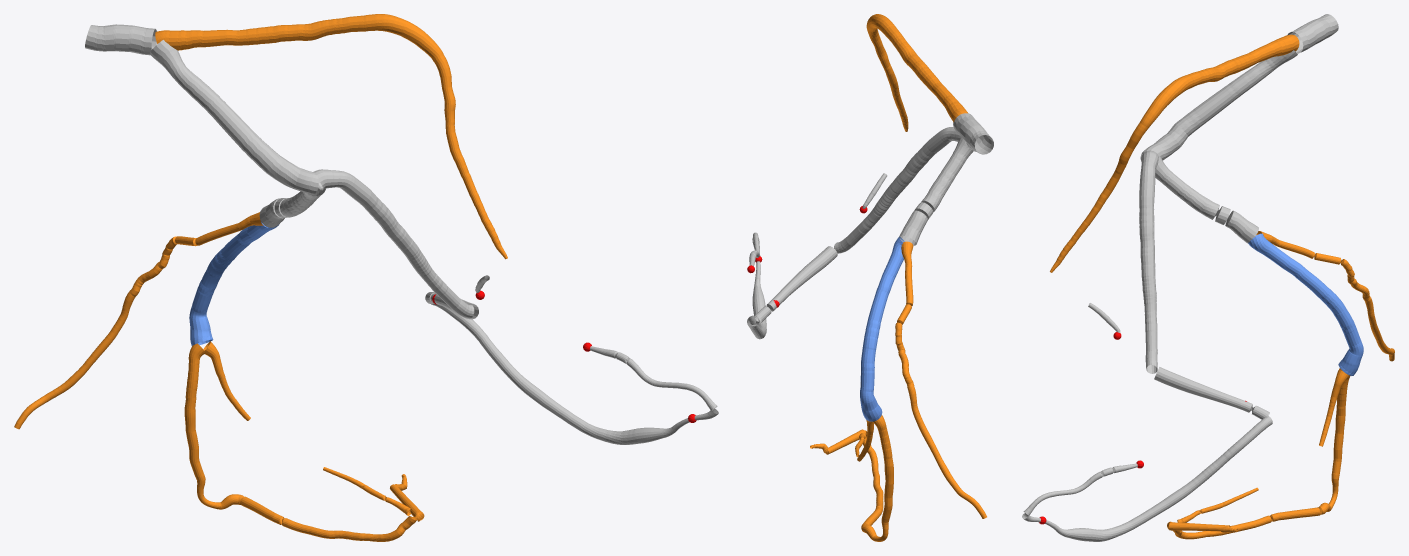
The model's file is hybrid_qca_radius_tree.obj.
The picture shows the model from 3 angles, left to right: view 1: azimuth 30°, elevation 25°; view 2: azimuth 150°, elevation 25°; view 3: azimuth 270°, elevation 25°; orthographic projection. The views are drawn at different scales.
Visible parts, largest first — view 1: branch_00_single_view_preserved, branch_06_reliable, branch_02_single_view_preserved, branch_03_reliable, branch_04_reliable, branch_01_single_view_preserved, branch_05_usable, branch_12_reliable, branch_08_reliable, branch_07_reliable; view 2: branch_00_single_view_preserved, branch_05_usable, branch_03_reliable, branch_01_single_view_preserved, branch_02_single_view_preserved, branch_08_reliable, branch_11_reliable, branch_12_reliable, branch_04_reliable, branch_14_single_view_preserved; view 3: branch_00_single_view_preserved, branch_03_reliable, branch_06_reliable, branch_04_reliable, branch_05_usable, branch_02_single_view_preserved, branch_08_reliable, branch_01_single_view_preserved, branch_11_reliable, branch_12_reliable, branch_07_reliable, branch_09_single_view_preserved (+1 smaller).
Part boxes in pixels (<box>): branch_00_single_view_preserved: <box>155,14,507,259</box>; branch_06_reliable: <box>150,40,318,194</box>; branch_02_single_view_preserved: <box>184,343,416,541</box>; branch_03_reliable: <box>313,169,474,318</box>; branch_04_reliable: <box>431,303,718,444</box>; branch_01_single_view_preserved: <box>14,212,263,429</box>; branch_05_usable: <box>189,220,279,345</box>; branch_12_reliable: <box>85,24,156,55</box>; branch_08_reliable: <box>259,188,325,227</box>; branch_07_reliable: <box>590,346,717,410</box>; branch_00_single_view_preserved: <box>866,14,967,131</box>; branch_05_usable: <box>860,236,904,421</box>; branch_03_reliable: <box>834,127,961,253</box>; branch_01_single_view_preserved: <box>895,241,986,518</box>; branch_02_single_view_preserved: <box>861,415,893,541</box>; branch_08_reliable: <box>899,137,973,245</box>; branch_11_reliable: <box>754,246,837,322</box>; branch_12_reliable: <box>953,113,993,154</box>; branch_04_reliable: <box>747,240,766,339</box>; branch_14_single_view_preserved: <box>810,429,867,454</box>; branch_00_single_view_preserved: <box>1050,34,1299,272</box>; branch_03_reliable: <box>1139,150,1158,373</box>; branch_06_reliable: <box>1140,50,1297,160</box>; branch_04_reliable: <box>1022,416,1272,541</box>; branch_05_usable: <box>1248,233,1363,375</box>; branch_02_single_view_preserved: <box>1173,368,1350,539</box>; branch_08_reliable: <box>1155,156,1258,243</box>; branch_01_single_view_preserved: <box>1256,231,1394,361</box>; branch_11_reliable: <box>1154,367,1269,419</box>; branch_12_reliable: <box>1287,14,1338,53</box>; branch_07_reliable: <box>1023,463,1137,515</box>; branch_09_single_view_preserved: <box>1319,370,1348,446</box>.
Bounding box in the file's own units: 96.73 × 102 × 74.05.
